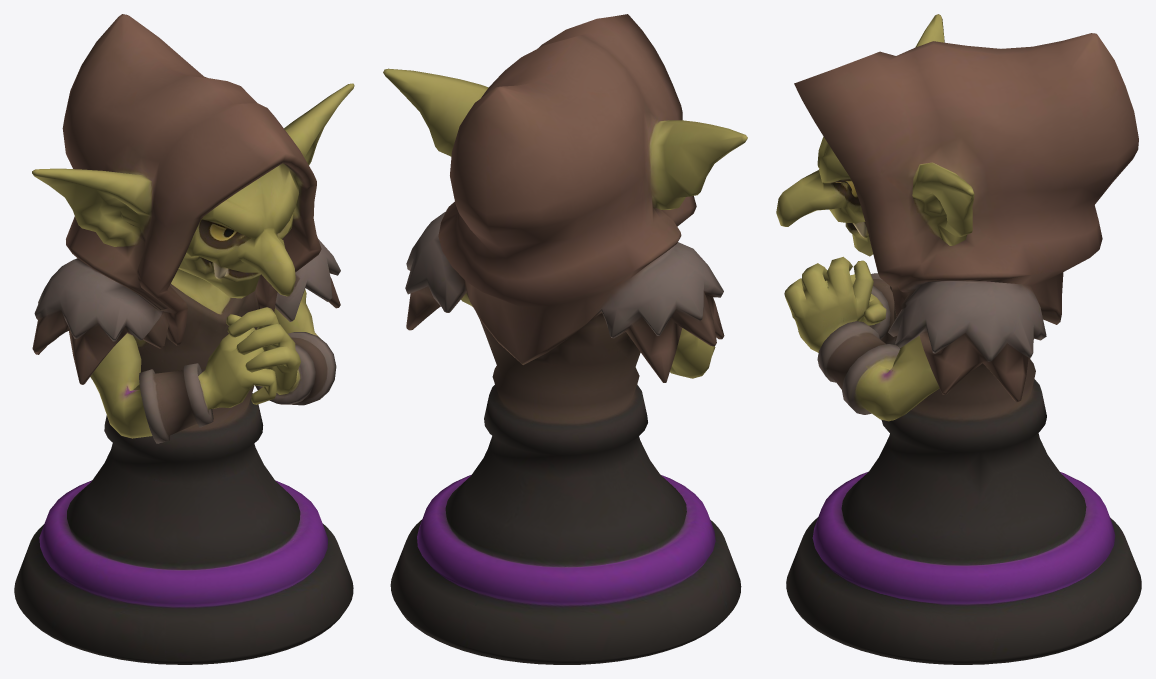
Rendered from enemy_goblin.glb.
The picture shows the model from 3 angles, left to right: view 1: azimuth 30°, elevation 25°; view 2: azimuth 150°, elevation 25°; view 3: azimuth 270°, elevation 25°; orthographic projection. The views are drawn at different scales.
Visible parts, largest first — view 1: tripo_node_ee50255d-6e54-482e-b7b9-58d6fcd55802; view 2: tripo_node_ee50255d-6e54-482e-b7b9-58d6fcd55802; view 3: tripo_node_ee50255d-6e54-482e-b7b9-58d6fcd55802.
Boxes of the visible parts, bbox=[...] form: tripo_node_ee50255d-6e54-482e-b7b9-58d6fcd55802: bbox=[14, 14, 354, 664]; tripo_node_ee50255d-6e54-482e-b7b9-58d6fcd55802: bbox=[383, 14, 747, 664]; tripo_node_ee50255d-6e54-482e-b7b9-58d6fcd55802: bbox=[776, 14, 1141, 664].
Size of the model in its own units: 0.6597 by 0.9995 by 0.5923.
Materials: 1 (1 with a texture image).
